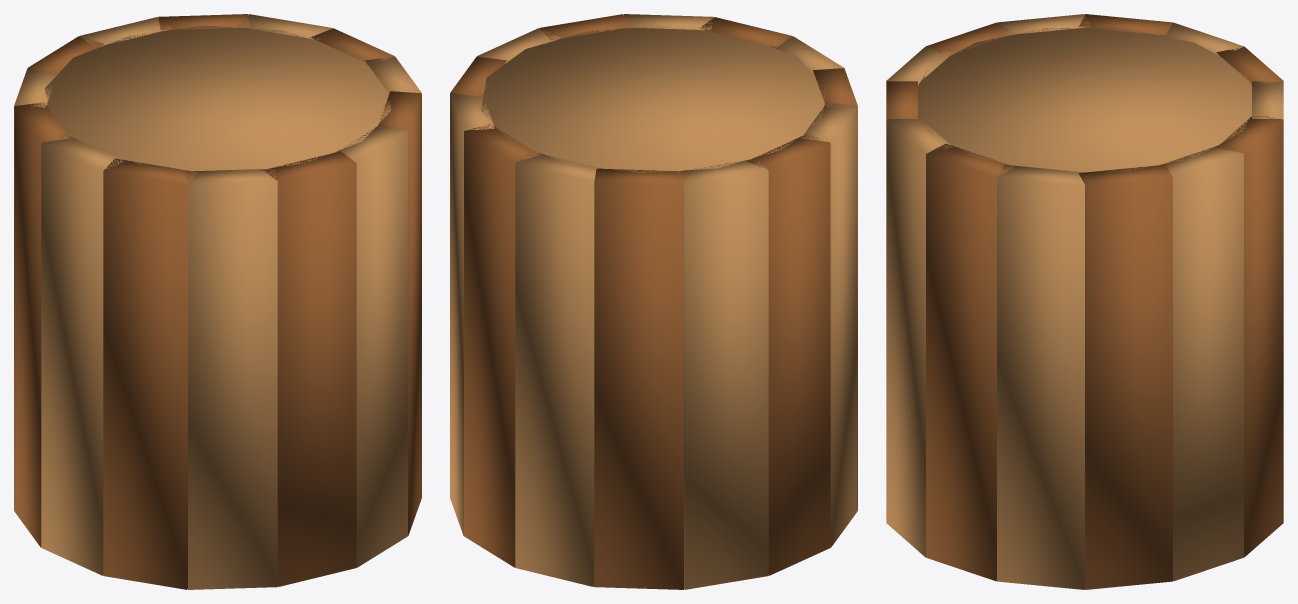
File: barrel_in.glb
The picture shows the model from 3 angles, left to right: view 1: azimuth 30°, elevation 25°; view 2: azimuth 150°, elevation 25°; view 3: azimuth 270°, elevation 25°; orthographic projection.
Visible parts, largest first — view 1: barrel_in; view 2: barrel_in; view 3: barrel_in.
Part boxes in pixels (x1,y1,x2,y2): barrel_in: (14,14,421,589); barrel_in: (450,14,857,589); barrel_in: (886,14,1283,589).
Bounding box in the file's own units: 0.6402 × 0.7 × 0.6246.
